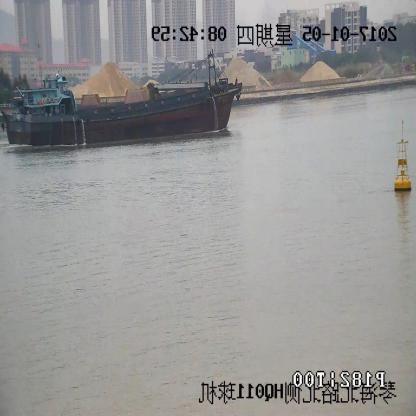Bulk Carrier: (2, 55, 242, 144)
